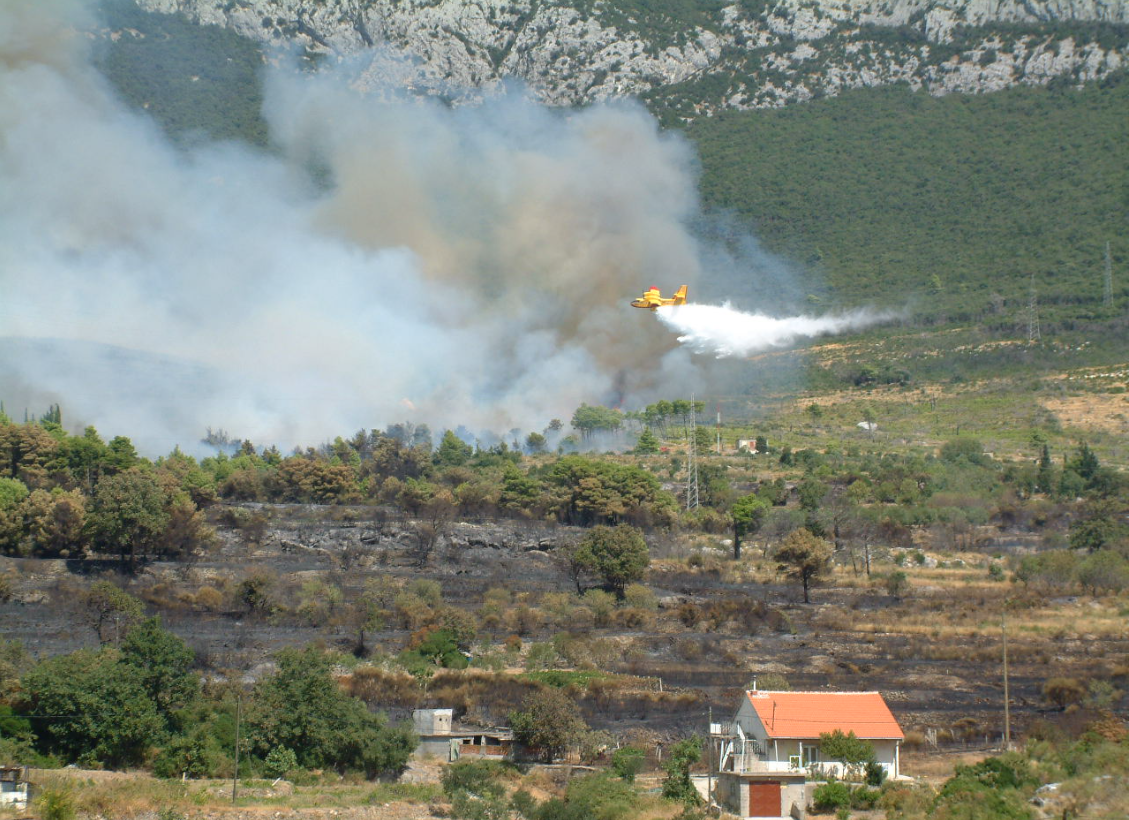喷灌水雾: (654, 297, 917, 362)
